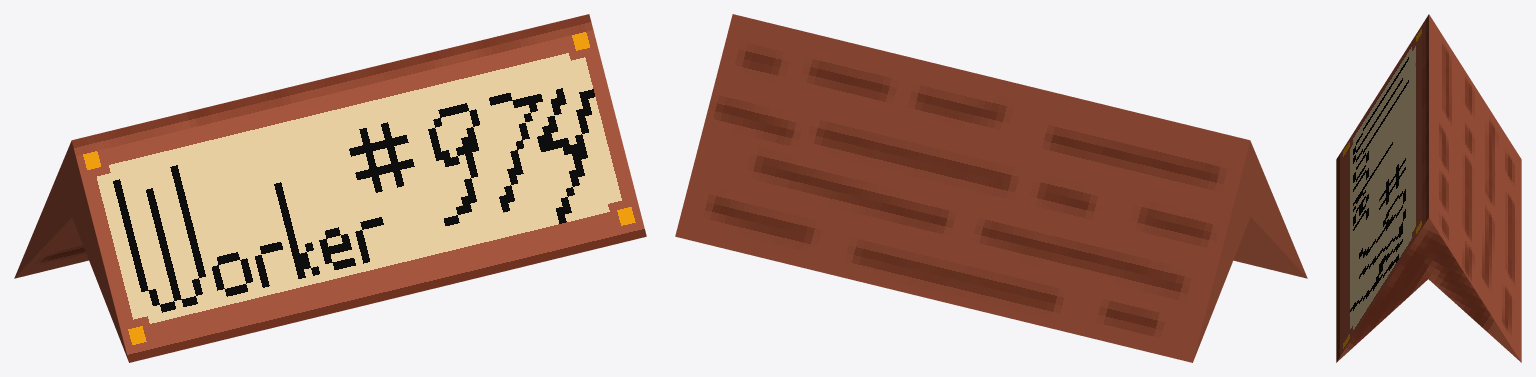
Rendered from NamePlate.gltf.
3 renders of one model, left to right at view 1: azimuth 30°, elevation 25°; view 2: azimuth 150°, elevation 25°; view 3: azimuth 270°, elevation 25°, orthographic. The views are drawn at different scales.
Visible parts, largest first — view 1: cylinder; view 2: cylinder; view 3: cylinder.
Part boxes in pixels (box(x1,y1,x2,y2)): cylinder: box(14, 14, 646, 362); cylinder: box(675, 14, 1307, 362); cylinder: box(1336, 14, 1521, 362).
Bounding box in the file's own units: 4.5 × 1.5 × 1.73.
Materials: 1 (1 with a texture image).
